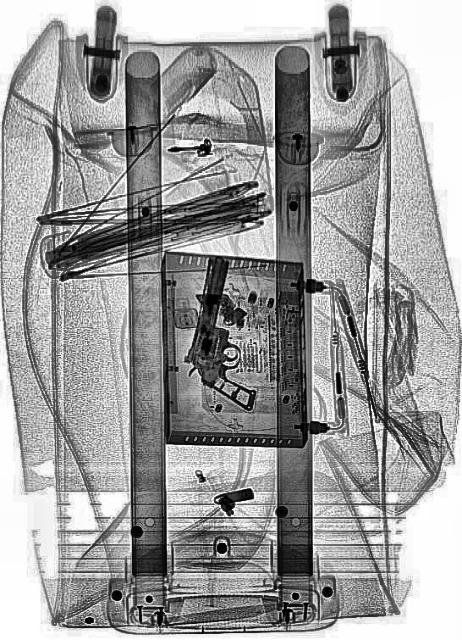Gun: (178, 250, 280, 412)
